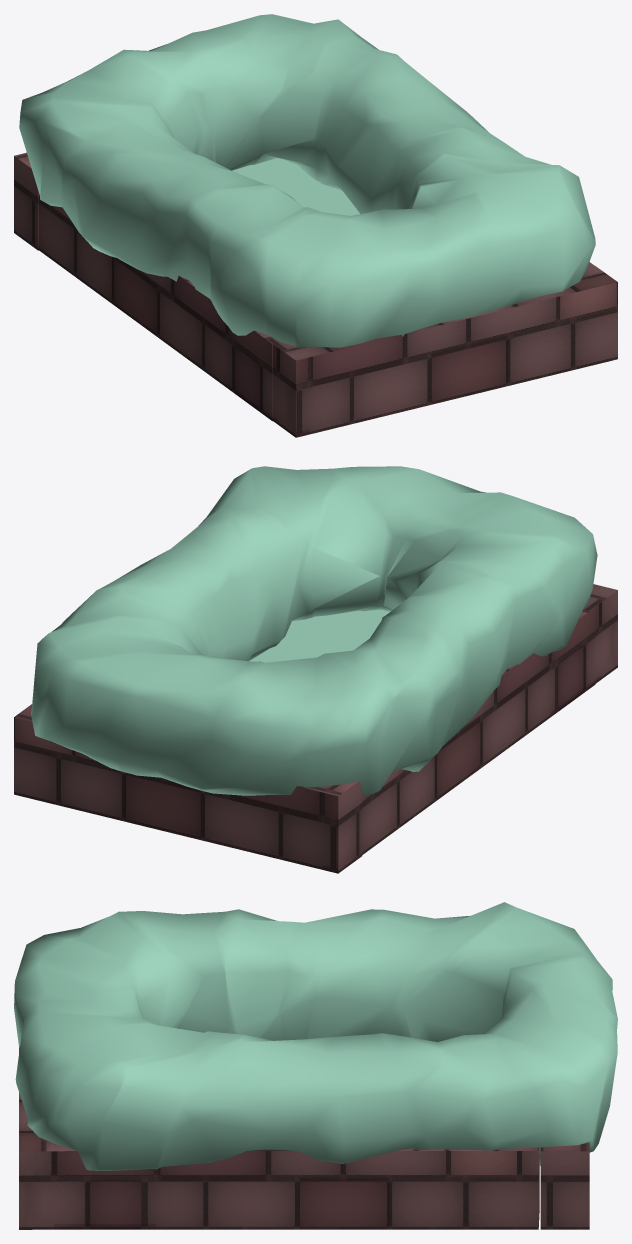
Rendered from ArchBase.fbx.
3 views of the same model, one above another, from view 1: azimuth 30°, elevation 25°; view 2: azimuth 150°, elevation 25°; view 3: azimuth 270°, elevation 25° (orthographic).
Parts seen in each view (by area): view 1: ArchBaseA, ArchBaseB; view 2: ArchBaseA, ArchBaseB; view 3: ArchBaseA, ArchBaseB.
Part boxes in pixels (<box>): ArchBaseA: <box>19,14,595,347</box>; ArchBaseB: <box>14,152,617,437</box>; ArchBaseA: <box>31,466,597,795</box>; ArchBaseB: <box>14,584,617,873</box>; ArchBaseA: <box>14,902,617,1170</box>; ArchBaseB: <box>19,1046,589,1229</box>.
Bounding box in the file's own units: 0.7556 × 0.3287 × 1.09.
